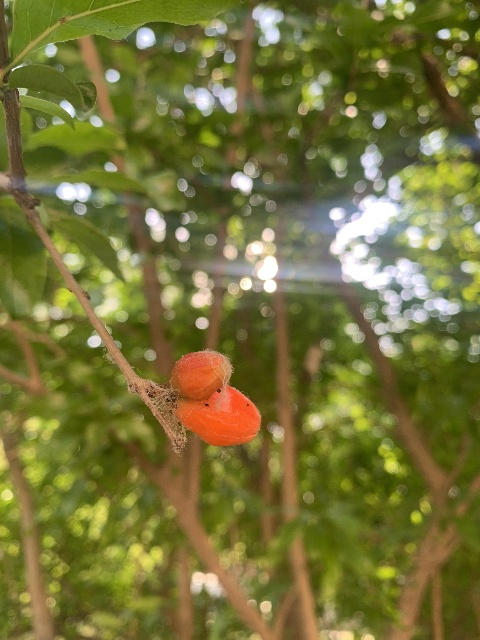bud: (175, 385, 260, 447), (170, 351, 228, 401)
